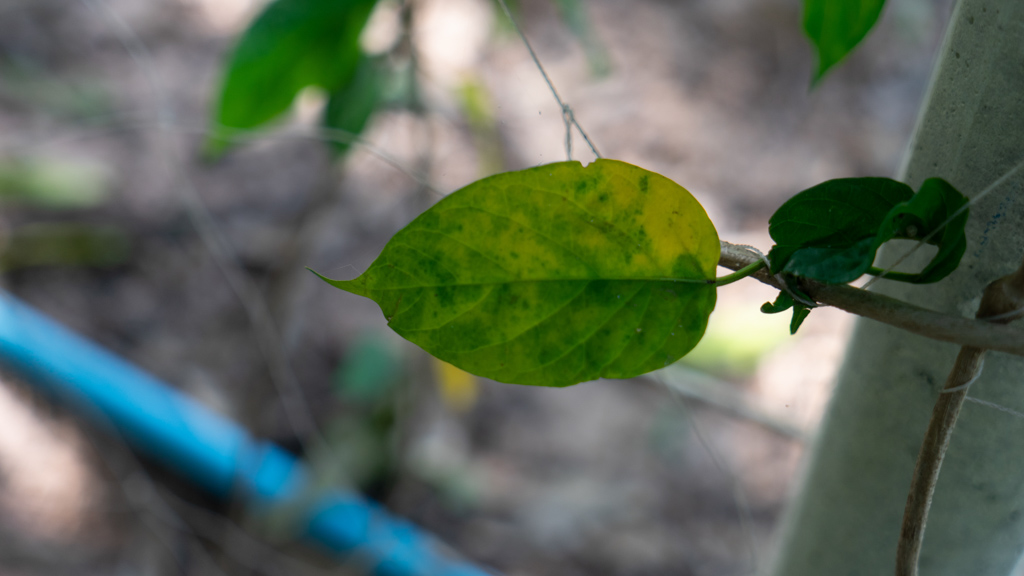Pepper yellow leaf: (360, 160, 720, 383)
